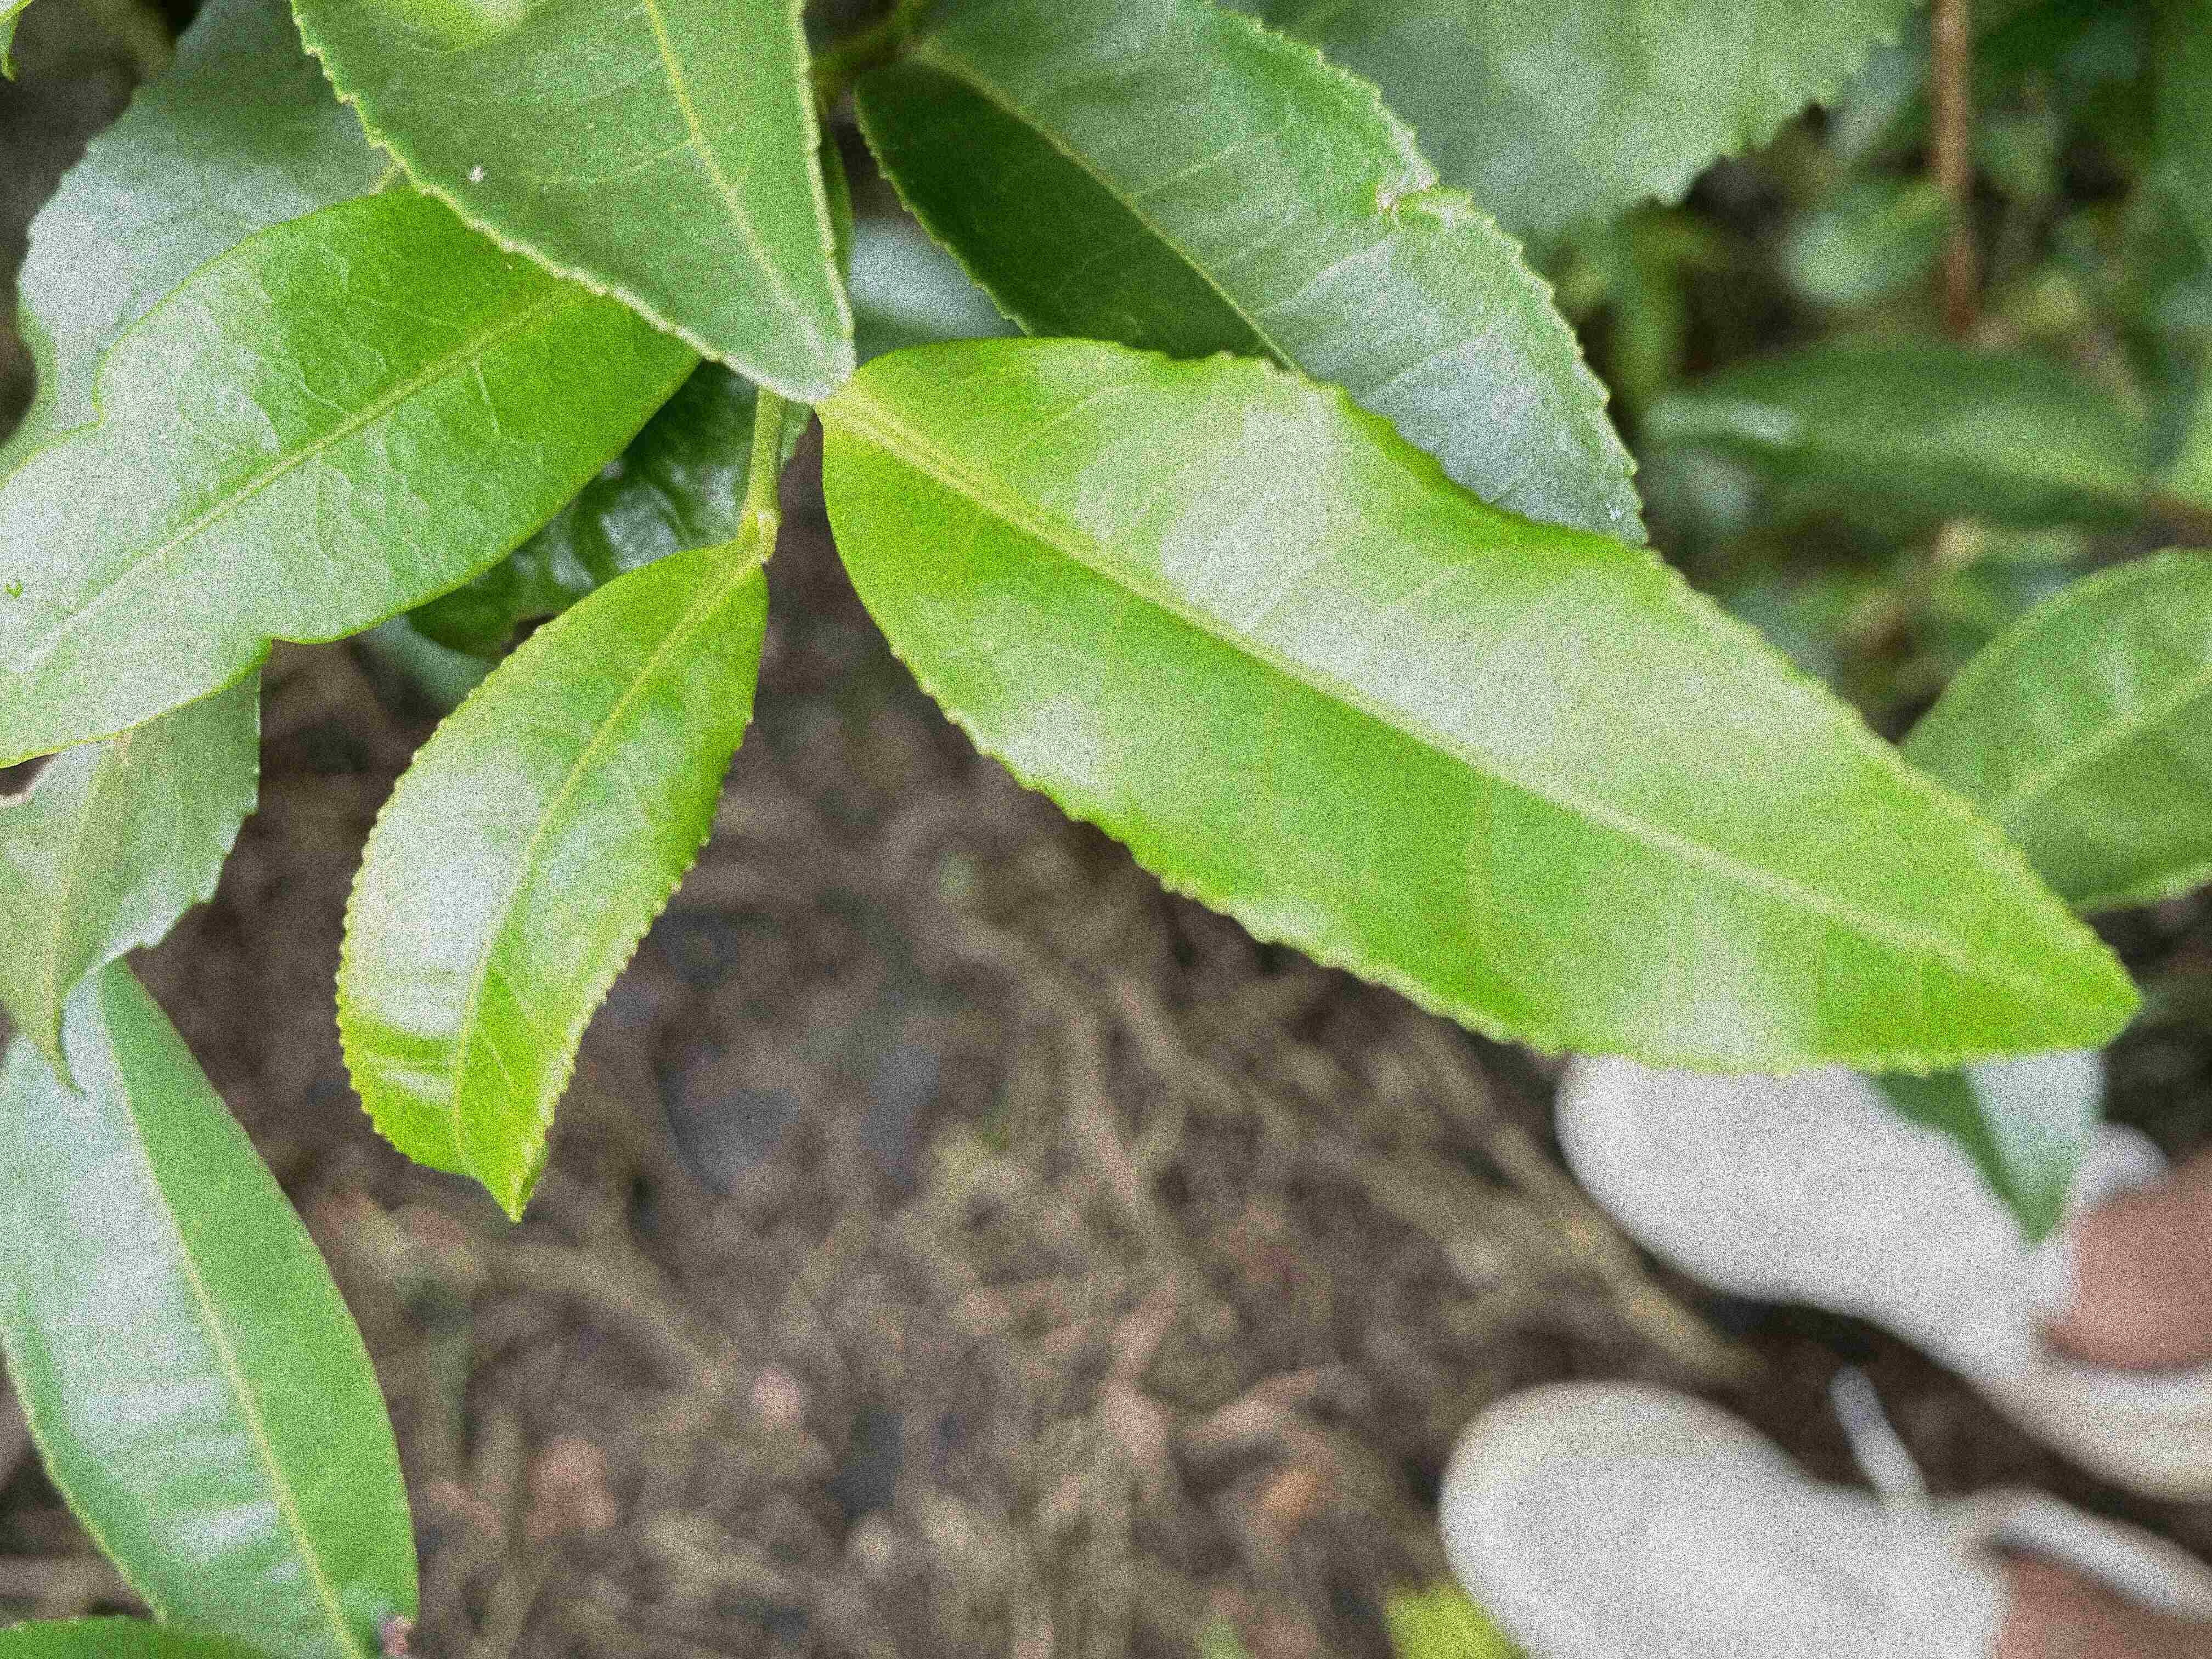healthy: (822, 333, 2141, 1084), (5, 183, 709, 767), (334, 547, 775, 1225)
tanju_low: (2, 955, 425, 1652)
